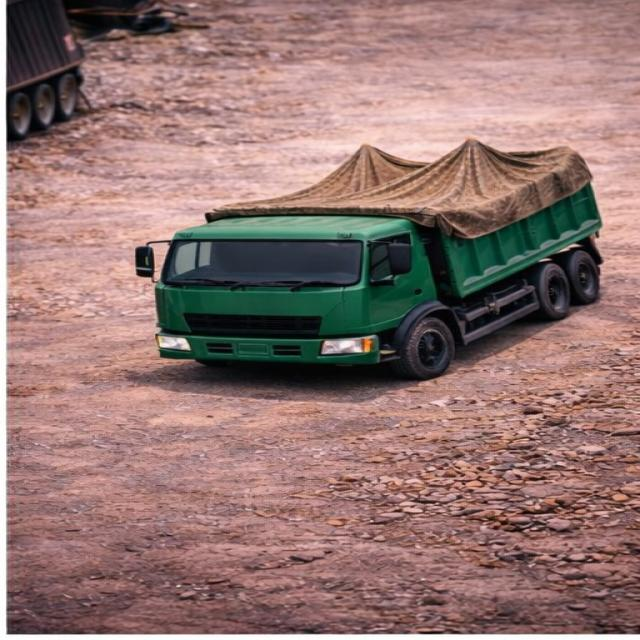Box: (210, 137, 588, 218)
Truck: (134, 104, 617, 400)
